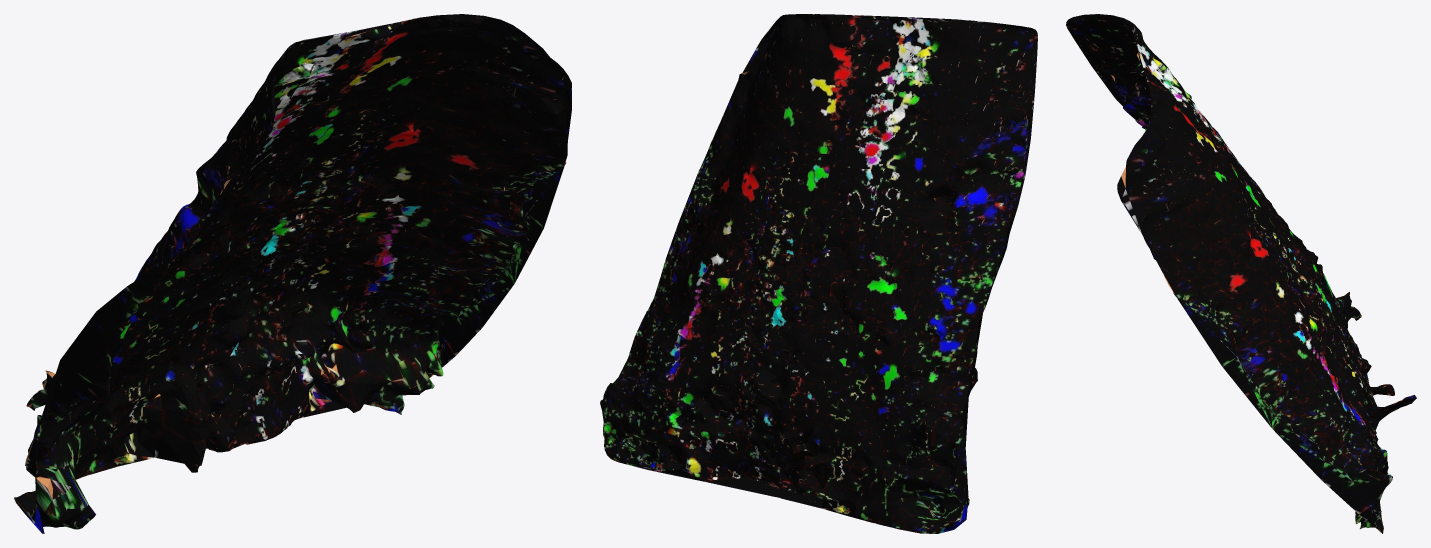
The picture shows the model from 3 angles, left to right: view 1: azimuth 30°, elevation 25°; view 2: azimuth 150°, elevation 25°; view 3: azimuth 270°, elevation 25°; orthographic projection. The views are drawn at different scales.
Visible parts, largest first — view 1: scene_textured; view 2: scene_textured; view 3: scene_textured.
Part boxes in pixels (x1,y1,x2,y2): scene_textured: (14, 14, 571, 533); scene_textured: (600, 14, 1037, 533); scene_textured: (1066, 14, 1416, 533).
Bounding box in the file's own units: 5.45 × 6.42 × 4.87.
1 material, 1 textured.
